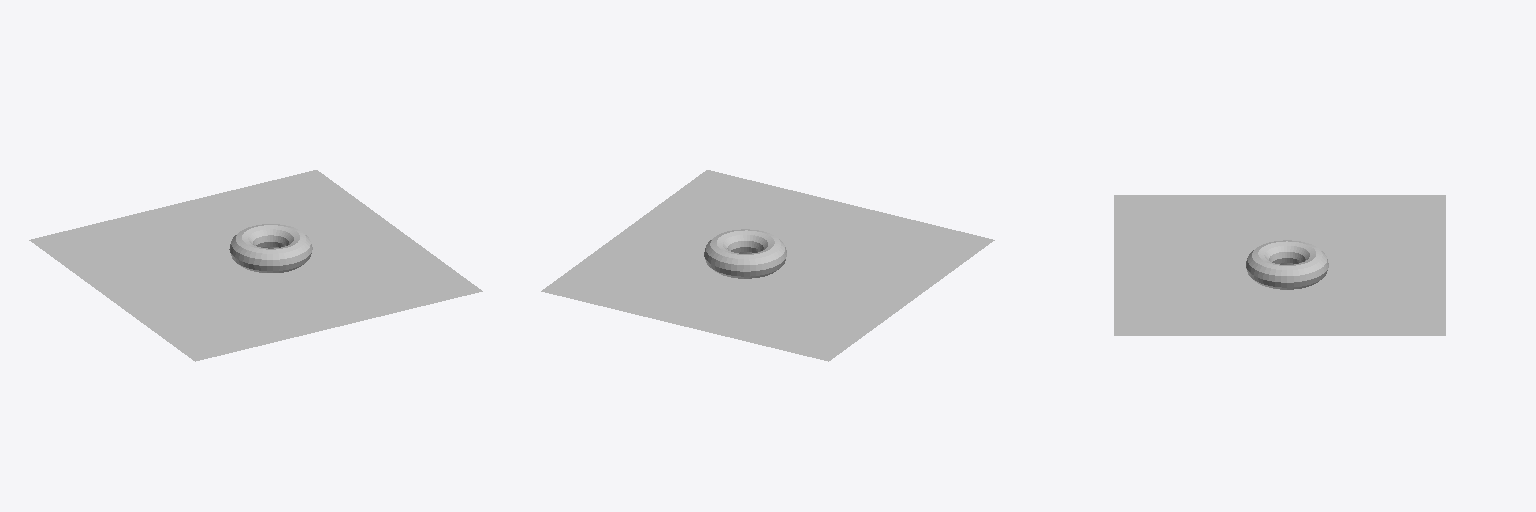
File: donut.obj
3 views of the same model, side by side, from view 1: azimuth 30°, elevation 25°; view 2: azimuth 150°, elevation 25°; view 3: azimuth 270°, elevation 25° (orthographic).
Visible parts, largest first — view 1: Plane, Torus.001; view 2: Plane, Torus.001; view 3: Plane, Torus.001.
Boxes of the visible parts, x1=… form: Plane: x1=29, y1=170, x2=482, y2=361; Torus.001: x1=229, y1=224, x2=312, y2=272; Plane: x1=541, y1=170, x2=994, y2=361; Torus.001: x1=704, y1=229, x2=786, y2=278; Plane: x1=1114, y1=195, x2=1445, y2=335; Torus.001: x1=1246, y1=240, x2=1328, y2=289.
Size of the model in its own units: 11.43 by 0.86 by 11.43.